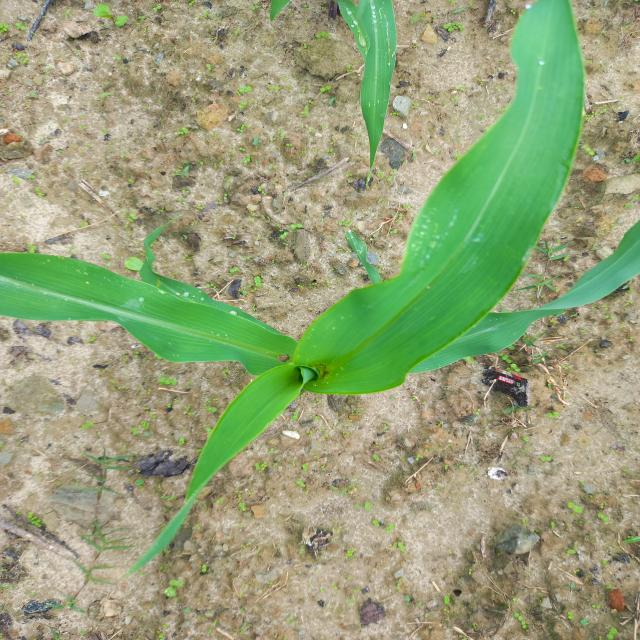maize: (0, 245, 640, 499), (456, 20, 640, 307), (319, 0, 422, 166)
weed: (100, 2, 322, 255)
